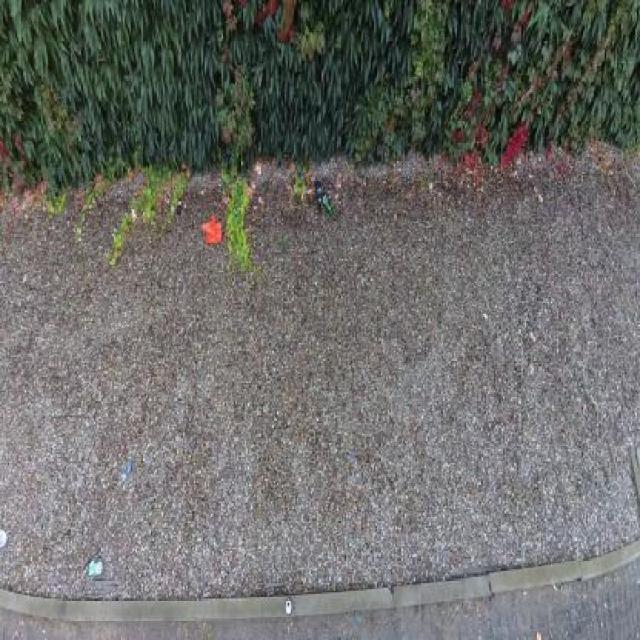Garbage: (200, 215, 222, 244), (321, 194, 336, 219), (86, 557, 102, 576), (314, 182, 322, 215), (125, 460, 132, 476), (0, 530, 6, 547), (286, 599, 292, 613)
